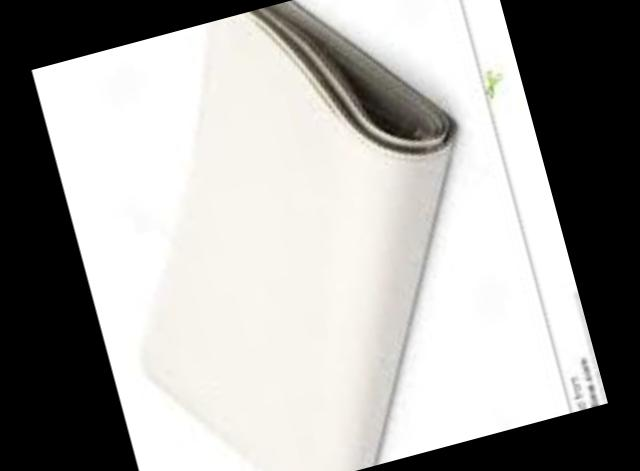cardboard paper: (143, 2, 450, 471)
